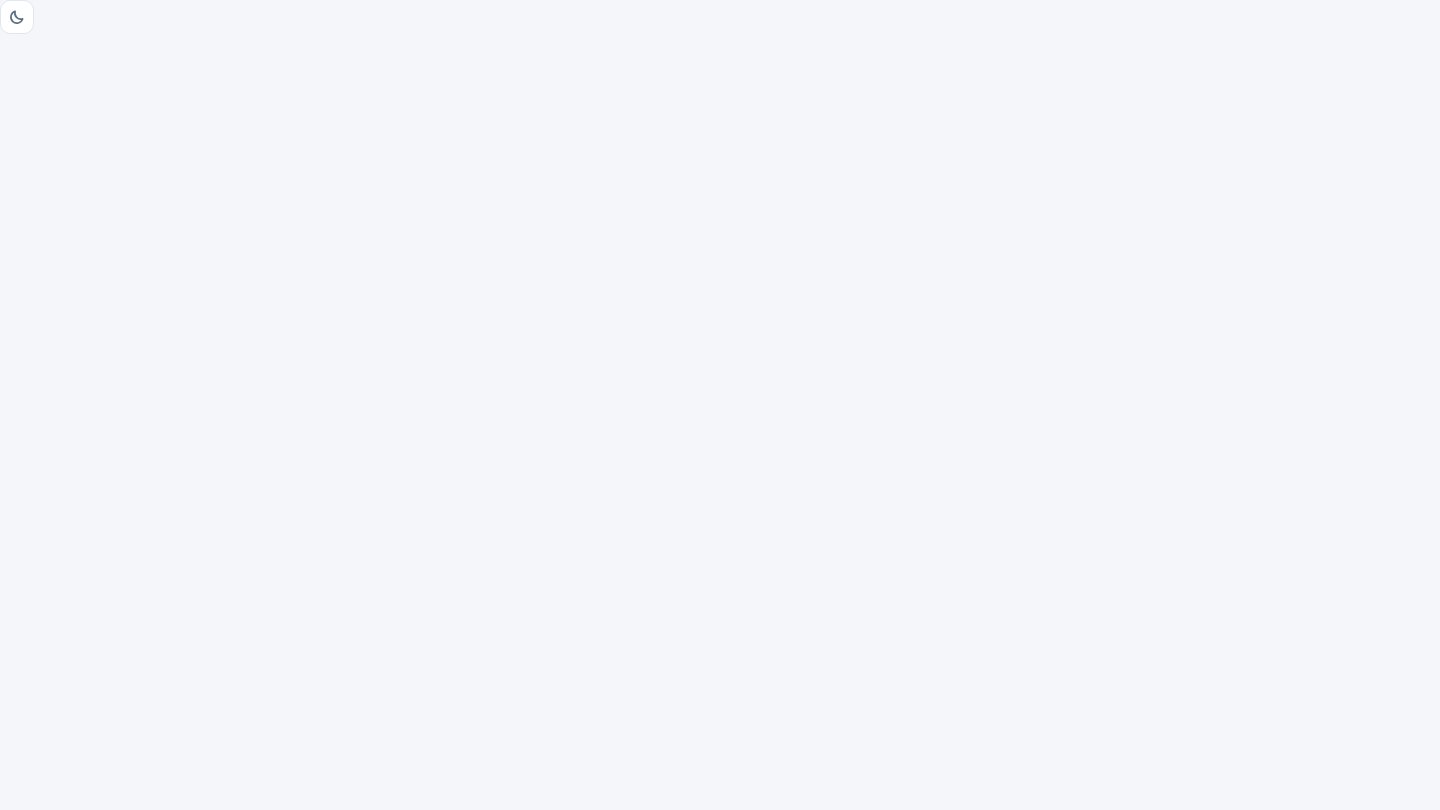
Test: theme › ThemeToggle: clicar com o sistema claro liga o escuro e grava
Click the button with test id "theme-toggle": (17, 17) top-left (0, 0), bottom-right (34, 34)
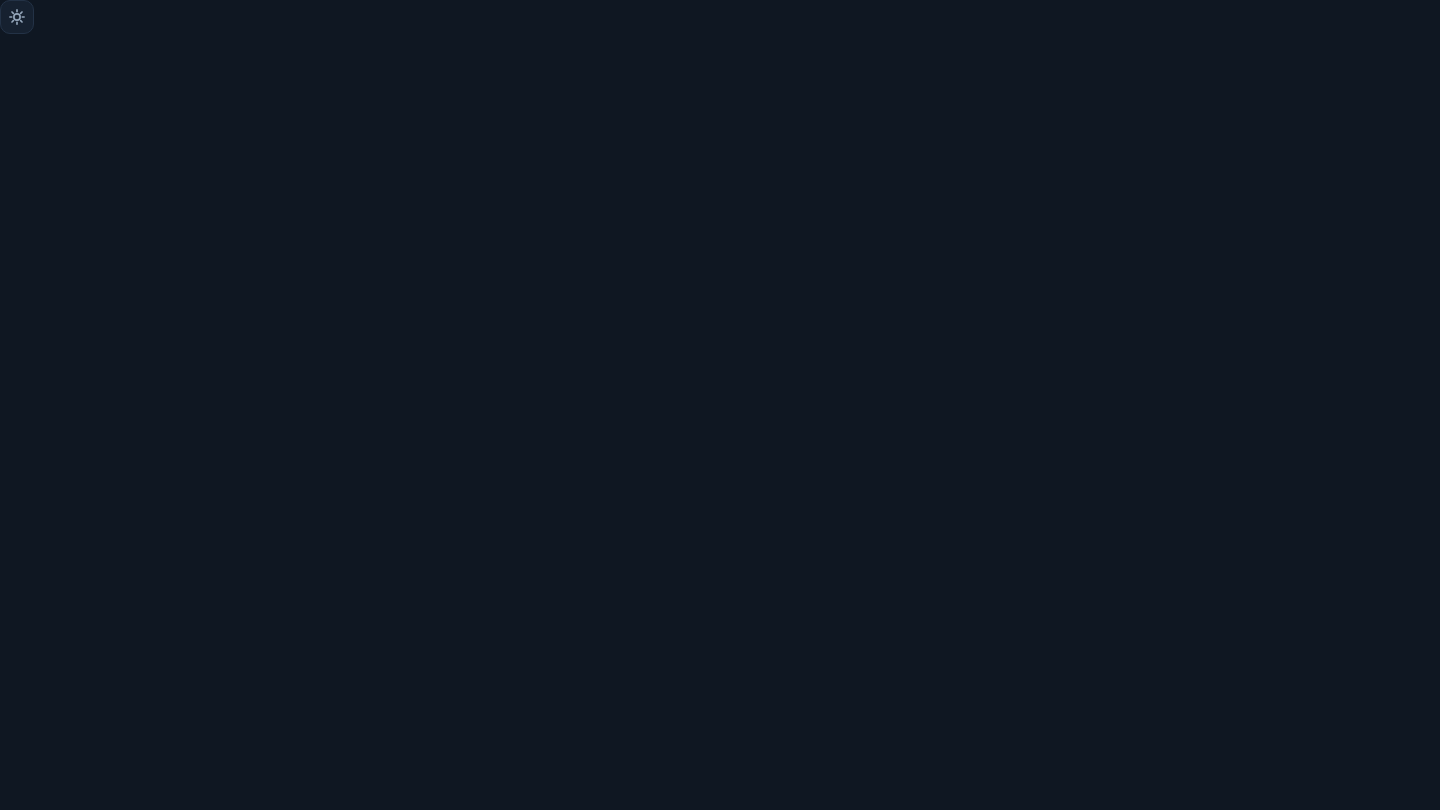
expect the button with test id "theme-toggle" has attribute aria-label="usar tema claro": met, box top-left (0, 0), bottom-right (34, 34)
